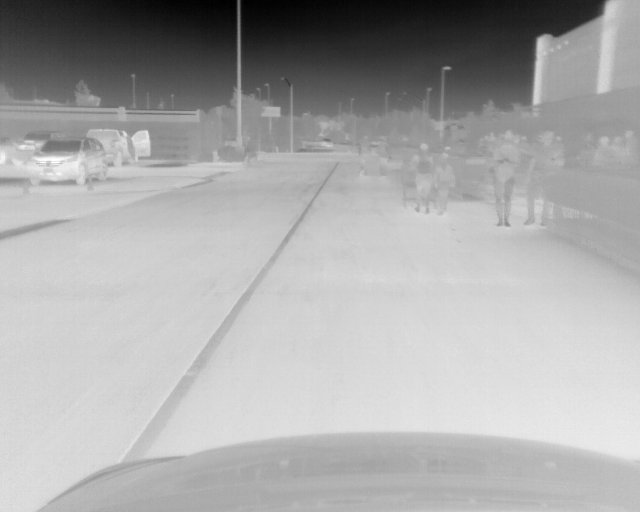car: (27, 136, 109, 185), (87, 129, 151, 164), (1, 134, 33, 164), (20, 131, 56, 147), (319, 138, 334, 149)
people: (522, 131, 560, 227), (489, 131, 520, 226), (408, 141, 434, 213), (435, 152, 456, 212), (591, 138, 615, 167), (376, 135, 392, 176), (357, 135, 373, 176), (619, 130, 638, 164), (125, 134, 136, 165)
